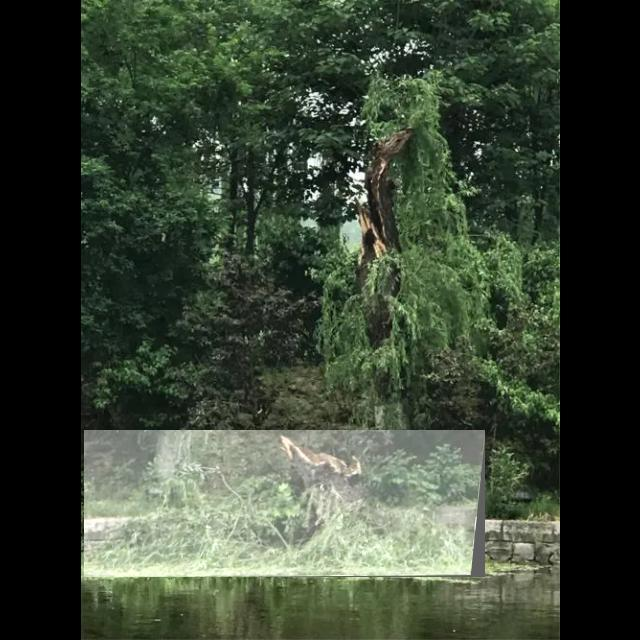fallen_tree: (84, 430, 486, 578)
